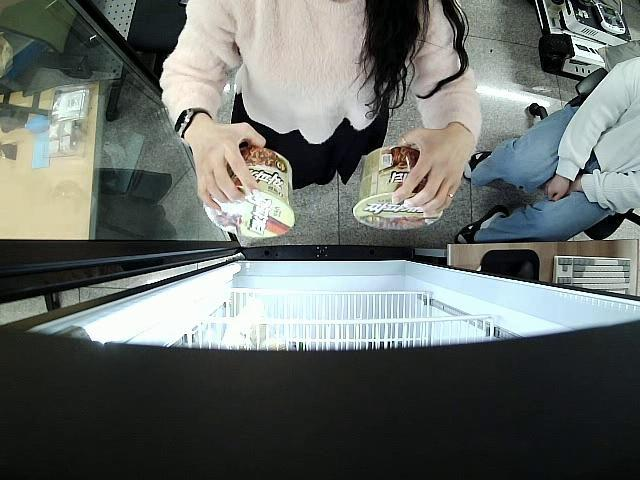03_chapagetti_L: (204, 146, 296, 241), (352, 145, 442, 232)
